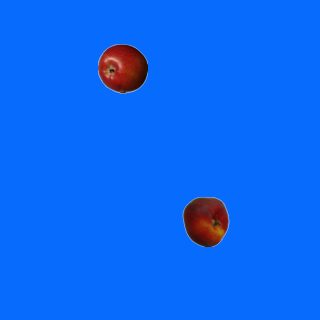Apple Braeburn: (97, 43, 147, 93)
Nectarine Flat: (180, 196, 230, 246)
